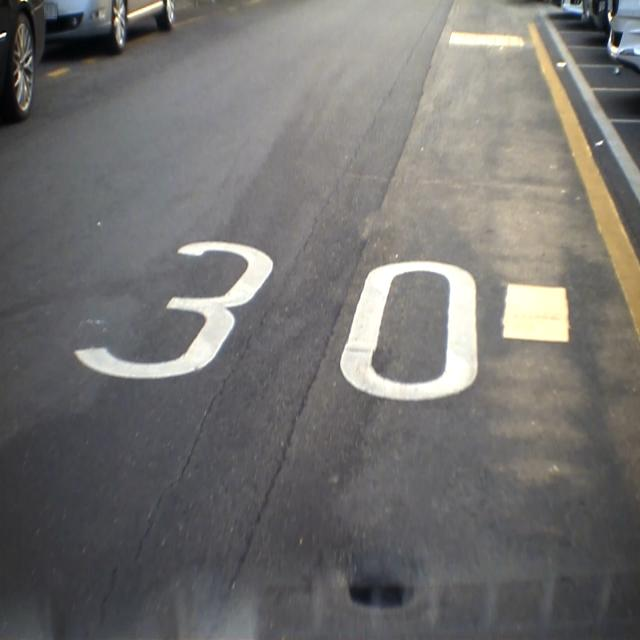Pothole: (339, 563, 423, 625)
